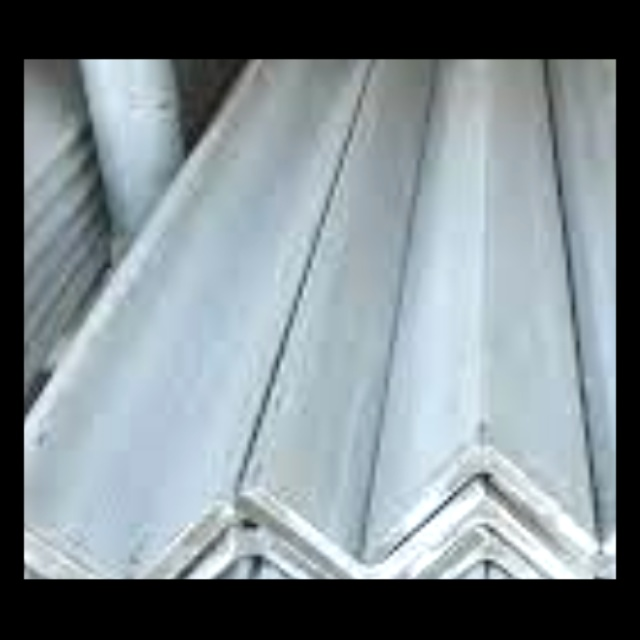Angle: (381, 453, 583, 548), (262, 496, 469, 577), (24, 512, 218, 579), (496, 482, 616, 571), (383, 545, 586, 579)
